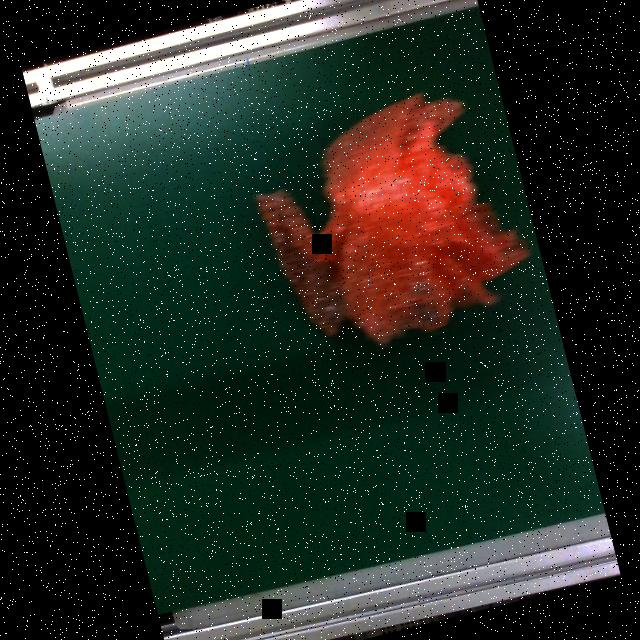scrap_plastic: (233, 68, 547, 372)
